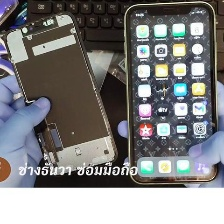phone: (0, 9, 121, 178), (120, 0, 221, 186)
